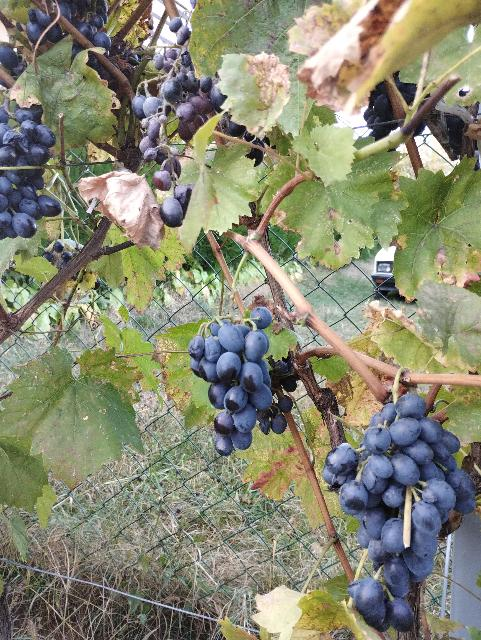grapes: (325, 394, 475, 631), (189, 309, 272, 456)
